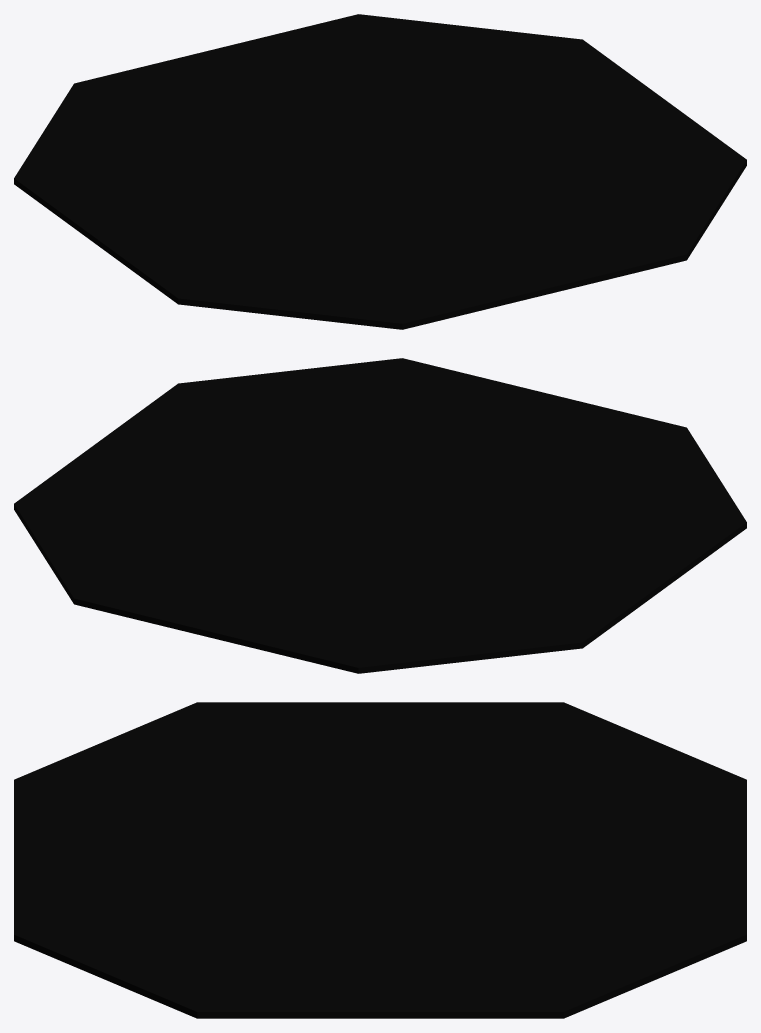
Rendered from Shadow.fbx.
3 views of the same model, one above another, from view 1: azimuth 30°, elevation 25°; view 2: azimuth 150°, elevation 25°; view 3: azimuth 270°, elevation 25° (orthographic). The views are drawn at different scales.
Parts seen in each view (by area): view 1: Cube; view 2: Cube; view 3: Cube.
Part boxes in pixels (<box>): Cube: <box>14,14,746,329</box>; Cube: <box>14,358,746,673</box>; Cube: <box>14,702,746,1018</box>.
Bounding box in the file's own units: 20 × 0.2 × 20.
Materials: 1 (1 with a texture image).
